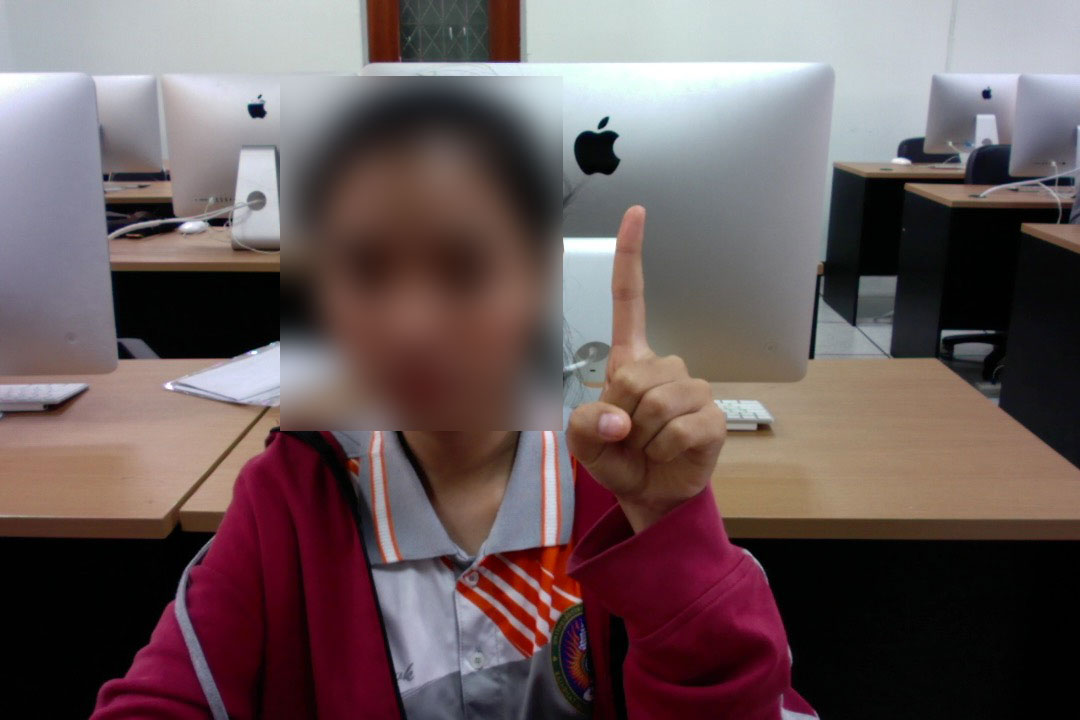lor: (550, 202, 752, 520)
